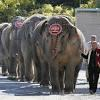elephant: (0, 14, 84, 91)
